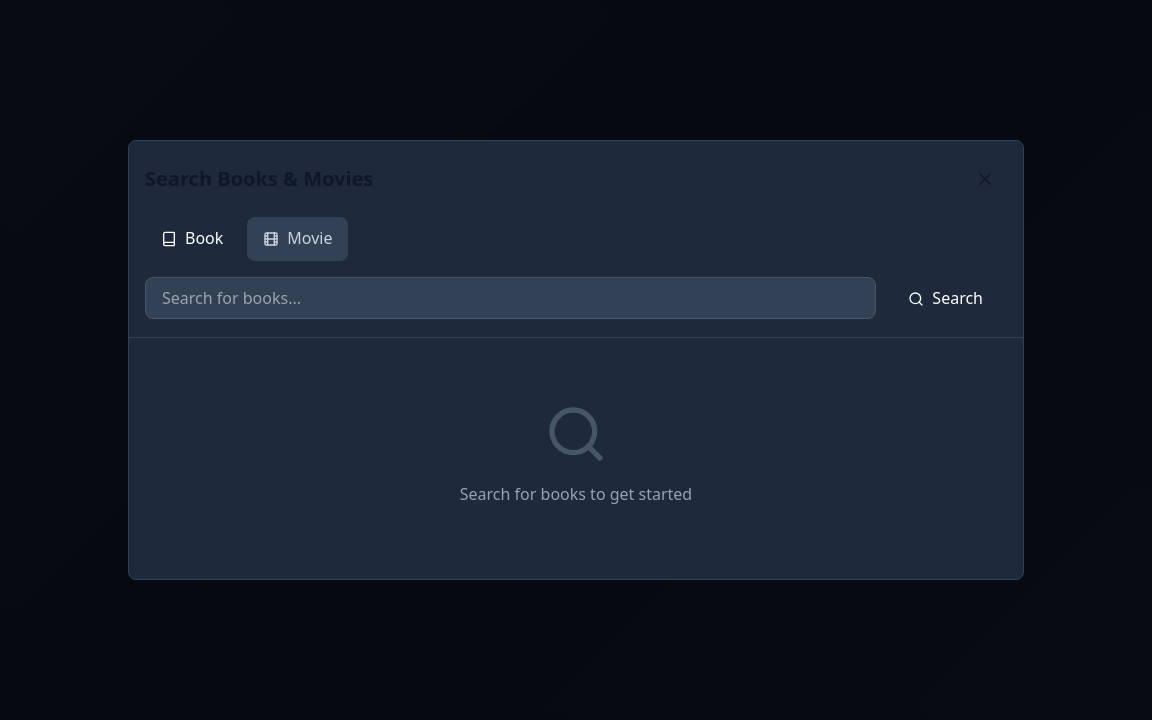
Test: SearchModal › search type switching › should switch to movie search when movie button clicked
The width and height of the screenshot is (1152, 720).
Click the button "movie" at (298, 239), box left=247, top=217, right=348, bottom=261
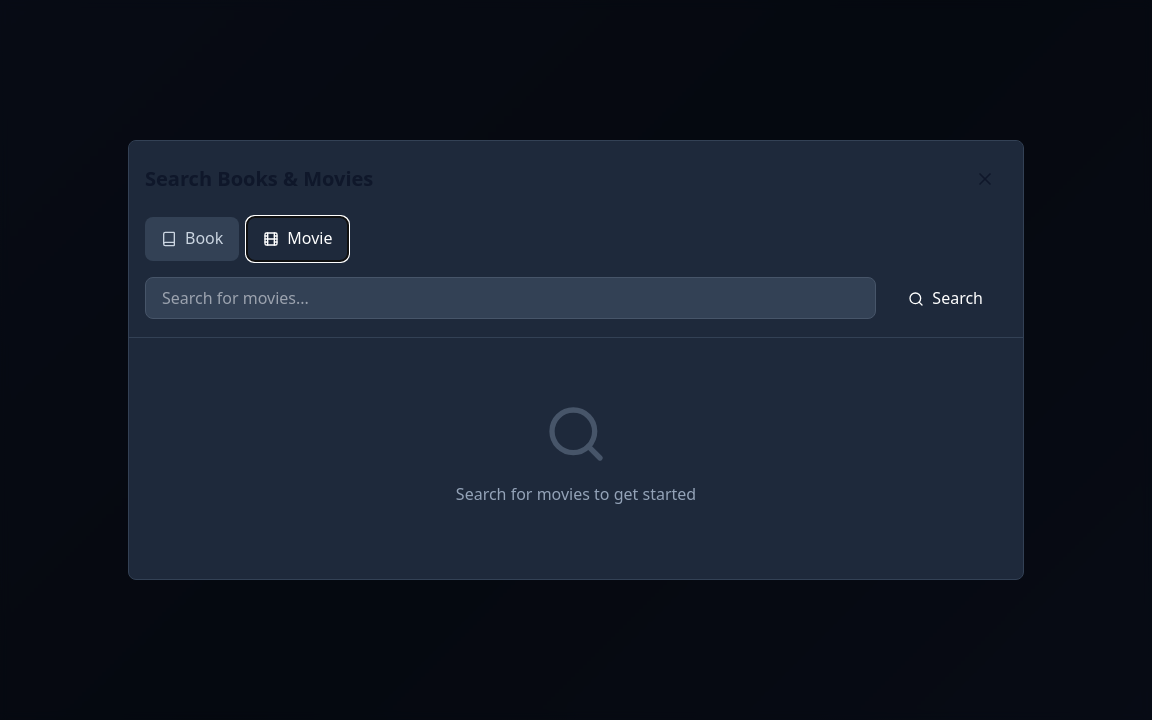
Expected: the field with placeholder "Search for movies..." is shown, left=145, top=277, right=876, bottom=319
Expected: the text "Search for movies to get started" is shown, left=456, top=483, right=696, bottom=505
